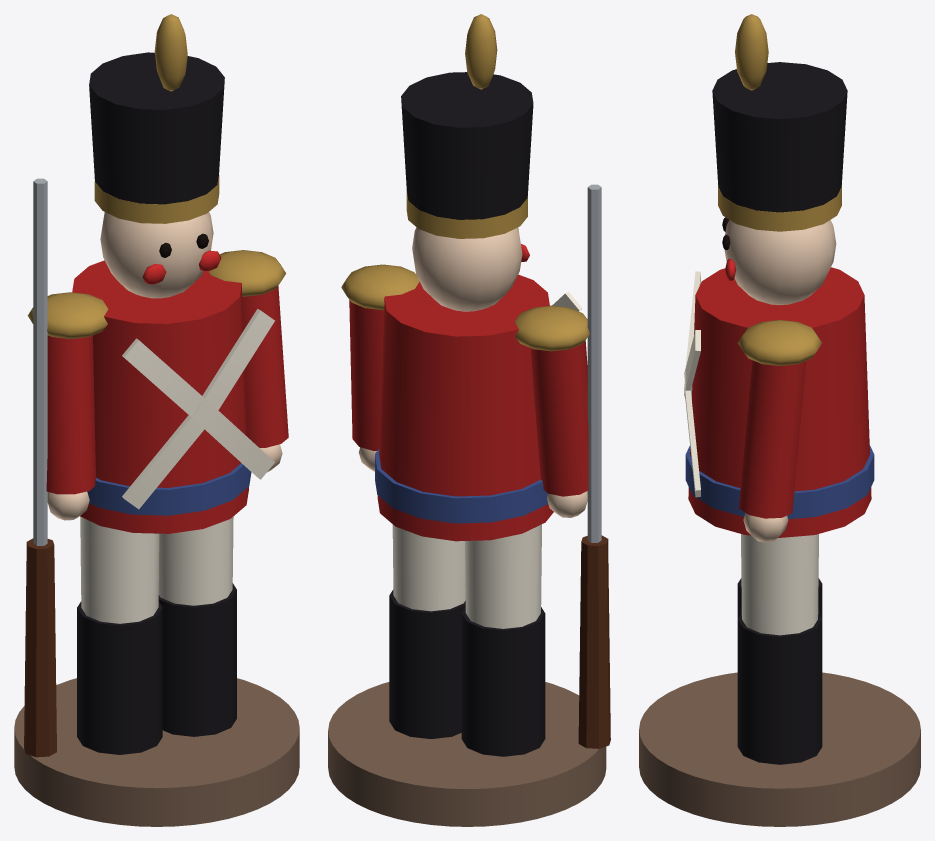
Rendered from PR_TinSoldier.fbx.
The picture shows the model from 3 angles, left to right: view 1: azimuth 30°, elevation 25°; view 2: azimuth 150°, elevation 25°; view 3: azimuth 270°, elevation 25°; orthographic projection. The views are drawn at different scales.
Parts seen in each view (by area): view 1: PR_TinSoldier_SoldierRed, PR_TinSoldier_SoldierBlack, PR_TinSoldier_Rust, PR_TinSoldier_SoldierWhite, PR_TinSoldier_Brass, PR_TinSoldier_Skin, PR_TinSoldier_WoodDark, PR_TinSoldier_Steel, PR_TinSoldier_Blue, PR_TinSoldier_ClownRed; view 2: PR_TinSoldier_SoldierRed, PR_TinSoldier_SoldierBlack, PR_TinSoldier_Rust, PR_TinSoldier_SoldierWhite, PR_TinSoldier_Brass, PR_TinSoldier_Skin, PR_TinSoldier_WoodDark, PR_TinSoldier_Steel, PR_TinSoldier_Blue; view 3: PR_TinSoldier_SoldierRed, PR_TinSoldier_Rust, PR_TinSoldier_SoldierBlack, PR_TinSoldier_SoldierWhite, PR_TinSoldier_Skin, PR_TinSoldier_Brass, PR_TinSoldier_Blue.
Boxes of the visible parts, x1,y1,x2,y2 form: PR_TinSoldier_SoldierRed: (46,260,288,533); PR_TinSoldier_SoldierBlack: (77,52,236,754); PR_TinSoldier_Rust: (14,678,299,826); PR_TinSoldier_SoldierWhite: (80,309,274,623); PR_TinSoldier_Brass: (27,14,285,338); PR_TinSoldier_Skin: (47,212,282,520); PR_TinSoldier_WoodDark: (24,538,56,757); PR_TinSoldier_Steel: (33,178,47,545); PR_TinSoldier_Blue: (87,463,251,515); PR_TinSoldier_ClownRed: (142,250,221,284); PR_TinSoldier_SoldierRed: (349,274,588,541); PR_TinSoldier_SoldierBlack: (389,72,545,756); PR_TinSoldier_Rust: (328,682,606,826); PR_TinSoldier_SoldierWhite: (392,291,582,628); PR_TinSoldier_Brass: (341,14,589,351); PR_TinSoldier_Skin: (358,227,587,517); PR_TinSoldier_WoodDark: (578,535,610,748); PR_TinSoldier_Steel: (587,184,601,542); PR_TinSoldier_Blue: (375,449,548,523); PR_TinSoldier_SoldierRed: (688,267,871,537); PR_TinSoldier_Rust: (639,672,920,826); PR_TinSoldier_SoldierBlack: (712,62,847,764); PR_TinSoldier_SoldierWhite: (684,271,818,635); PR_TinSoldier_Skin: (724,220,836,542); PR_TinSoldier_Brass: (718,14,841,365); PR_TinSoldier_Blue: (685,445,874,519).
Bounding box in the file's own units: 0.212 × 0.59 × 0.2.
